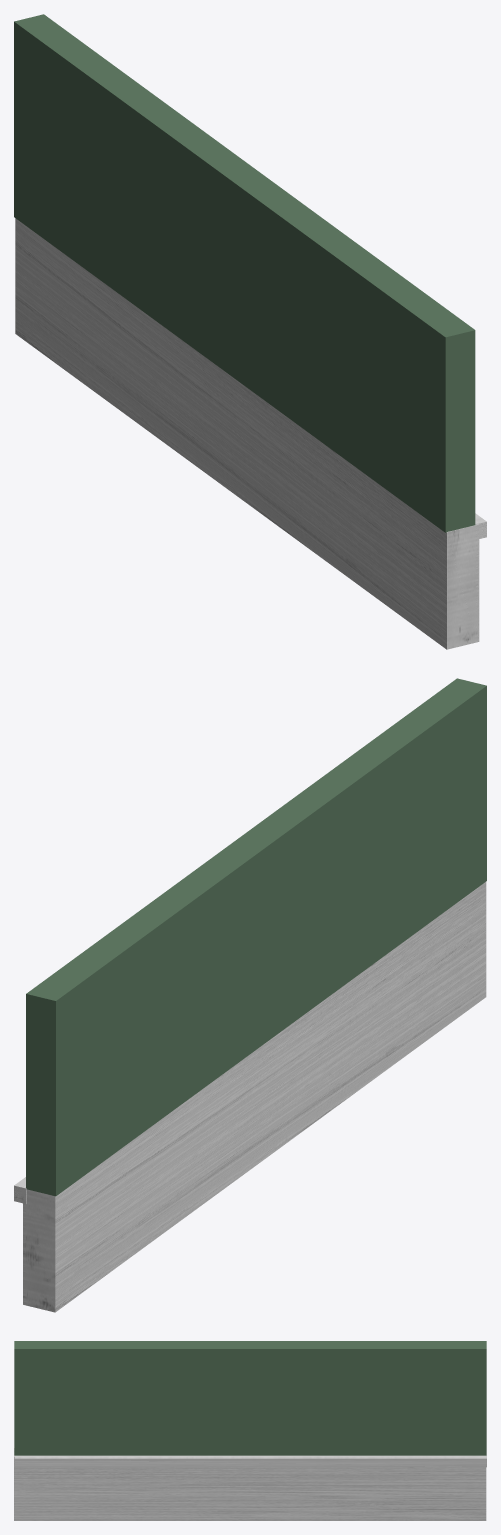
The model's file is wall_main.glb.
3 renders of one model, top to bottom at view 1: azimuth 30°, elevation 25°; view 2: azimuth 150°, elevation 25°; view 3: azimuth 270°, elevation 25°, orthographic. The views are drawn at different scales.
Visible parts, largest first — view 1: Cube, Cube.001; view 2: Cube, Cube.001; view 3: Cube, Cube.001, Cube.002.
Part boxes in pixels (box(x1,y1,x2,y2)): Cube: box(14, 14, 475, 532); Cube.001: box(15, 218, 479, 649); Cube: box(26, 678, 486, 1196); Cube.001: box(23, 882, 486, 1312); Cube: box(14, 1341, 486, 1455); Cube.001: box(14, 1448, 486, 1520); Cube.002: box(14, 1455, 486, 1467).
Bounding box in the file's own units: 0.5584 × 3.99 × 10.01.
Materials: 3 (2 with a texture image).
